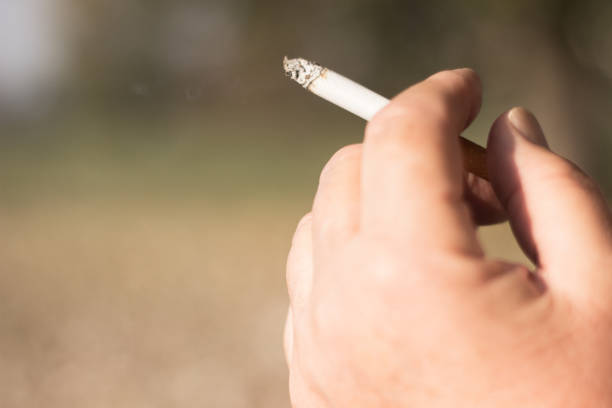cigarette: (280, 54, 497, 184)
